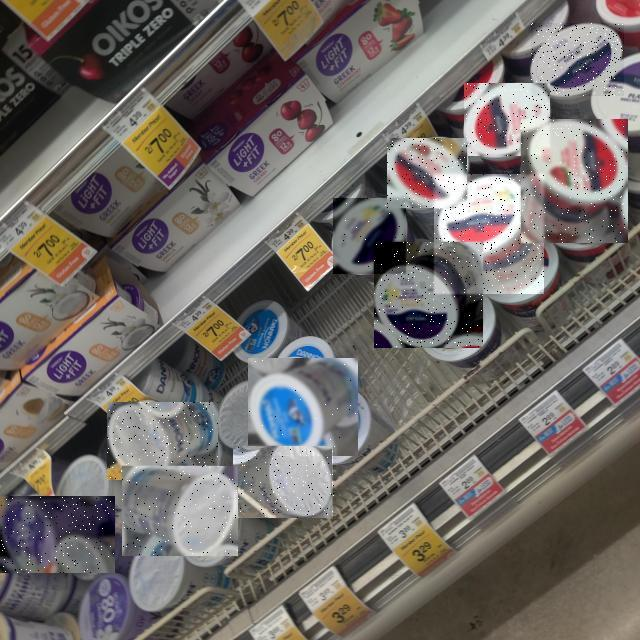Yoghurt: (521, 119, 628, 243), (434, 174, 544, 294), (374, 242, 483, 348), (248, 358, 358, 456), (122, 467, 238, 557), (0, 496, 115, 573), (107, 402, 218, 480), (234, 446, 336, 518), (531, 23, 624, 96), (465, 83, 551, 156), (387, 138, 467, 208), (333, 198, 406, 274)
